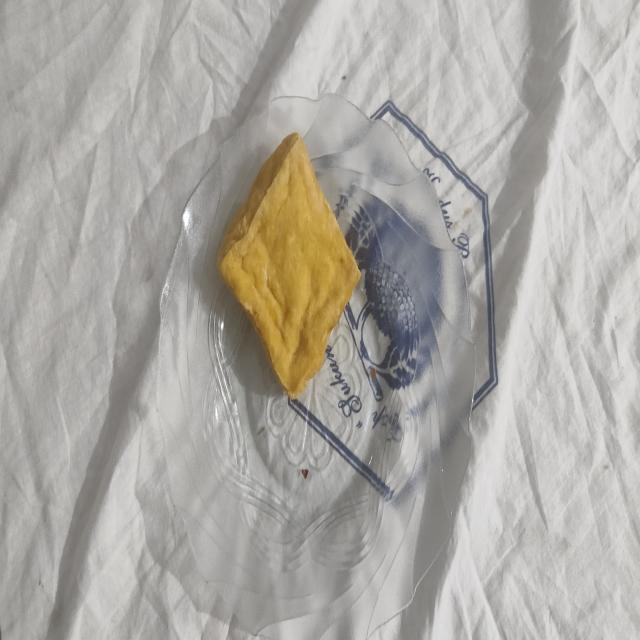tahu_goreng: (218, 132, 360, 398)
